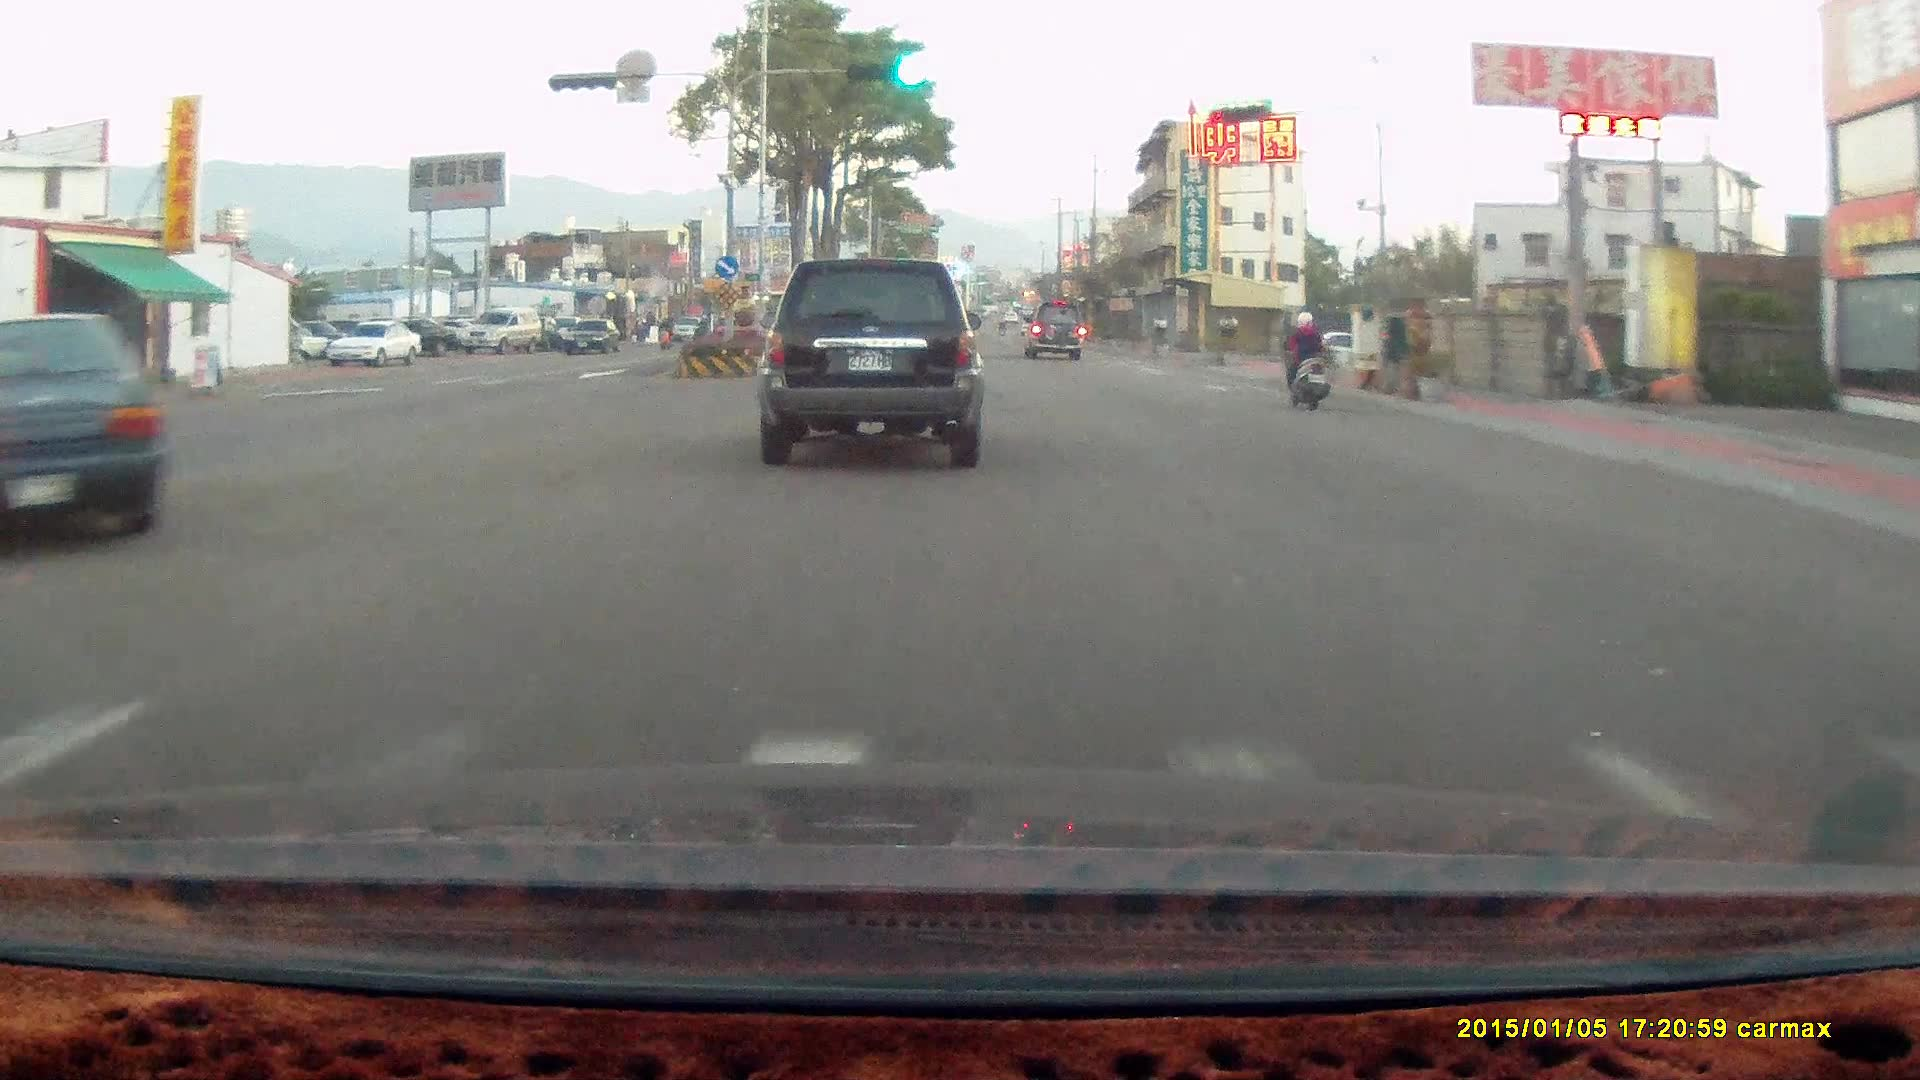rider: (1269, 300, 1344, 420), (1278, 306, 1330, 410)
vehicle: (764, 253, 995, 466), (759, 253, 984, 464), (1, 309, 180, 543), (330, 321, 424, 369), (325, 318, 420, 365), (458, 304, 544, 355), (459, 305, 543, 355), (1026, 300, 1086, 361), (1021, 299, 1084, 358), (374, 316, 456, 355), (562, 319, 622, 354)
